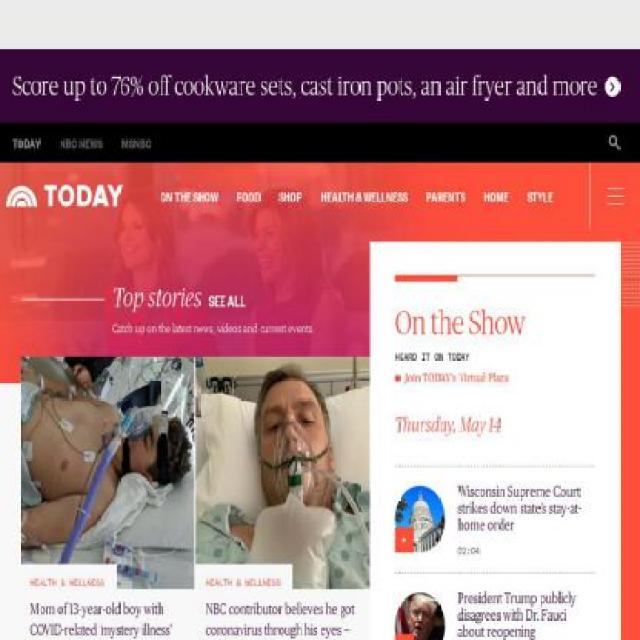button: (20, 357, 194, 589), (196, 357, 370, 589), (396, 282, 596, 340), (396, 410, 596, 441), (394, 485, 458, 553), (539, 227, 590, 295), (396, 592, 458, 640), (405, 368, 509, 386), (208, 288, 246, 310), (29, 577, 105, 586), (205, 577, 281, 586)
